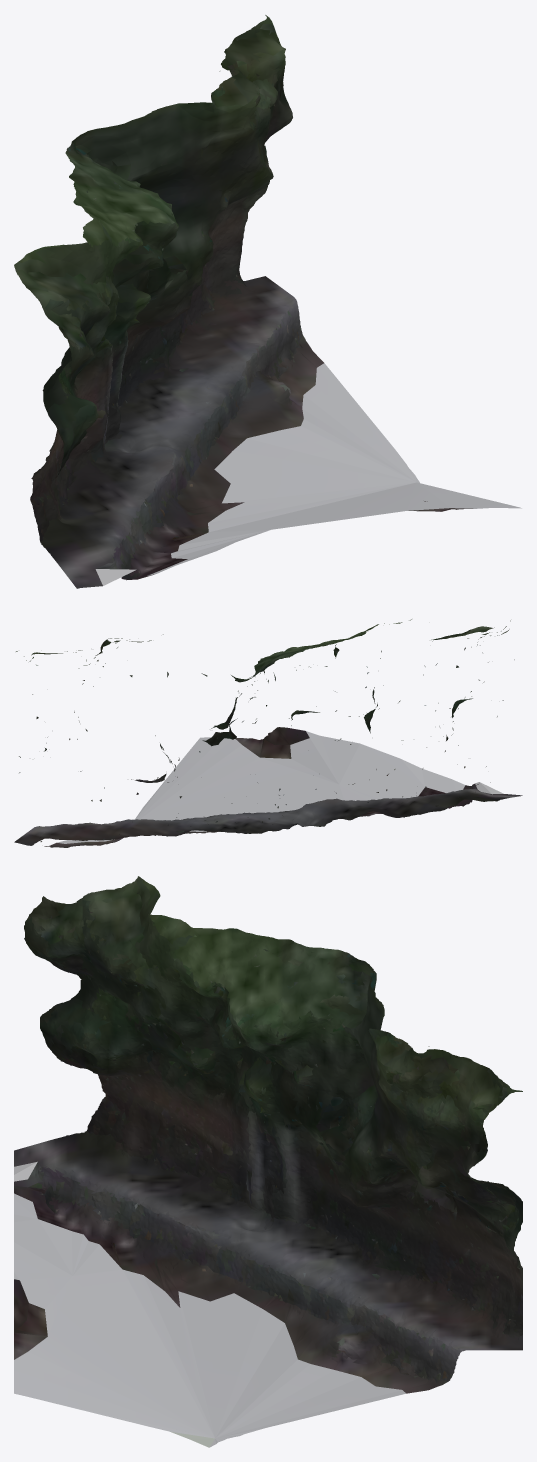
3 views of the same model, one above another, from view 1: azimuth 30°, elevation 25°; view 2: azimuth 150°, elevation 25°; view 3: azimuth 270°, elevation 25° (orthographic). The views are drawn at different scales.
Bounding box in the file's own units: 0.983 × 0.7598 × 0.983.
1 material, 1 textured.
